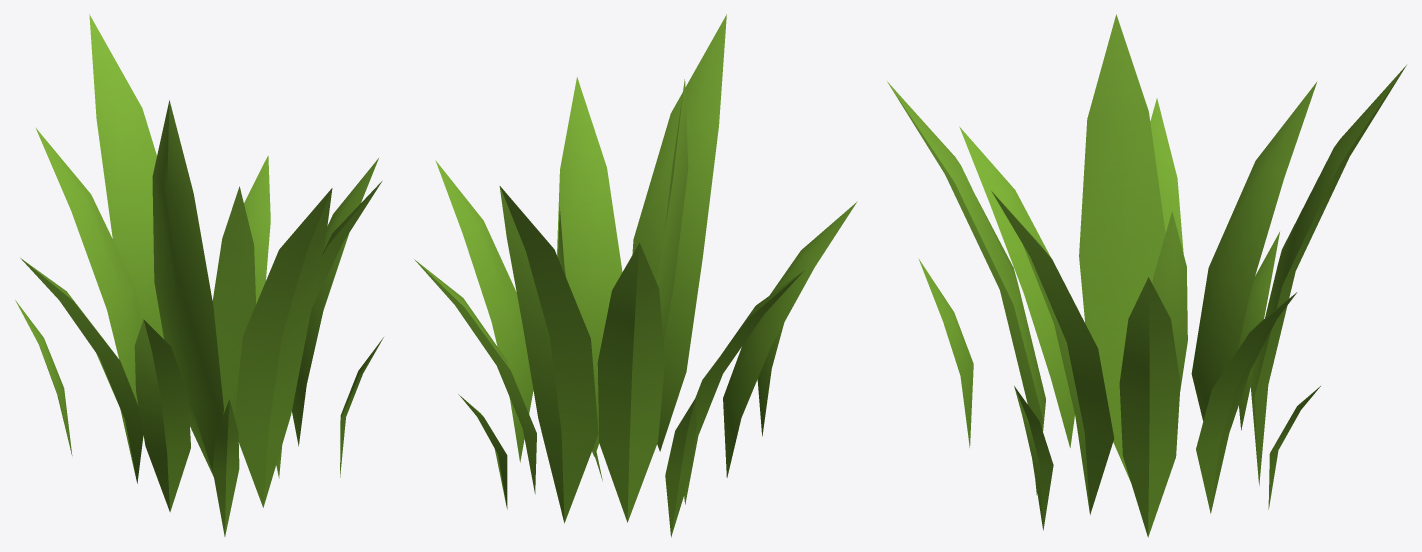
The model's file is Grass_02.fbx.
3 renders of one model, left to right at view 1: azimuth 30°, elevation 25°; view 2: azimuth 150°, elevation 25°; view 3: azimuth 270°, elevation 25°, orthographic. The views are drawn at different scales.
Parts seen in each view (by area): view 1: Grass_02; view 2: Grass_02; view 3: Grass_02.
Part boxes in pixels (x1,y1,x2,y2): Grass_02: (15, 14, 383, 536); Grass_02: (414, 14, 857, 537); Grass_02: (887, 14, 1406, 537).
Size of the model in its own units: 53.83 by 57.83 by 60.18.
